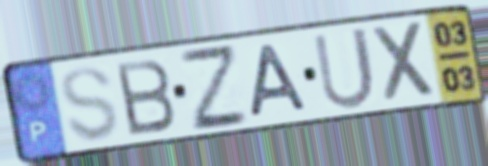A: (248, 41, 312, 121)
B: (111, 56, 178, 139)
S: (58, 64, 121, 145)
U: (310, 24, 379, 112)
X: (369, 17, 440, 107)
Z: (175, 44, 253, 135)
